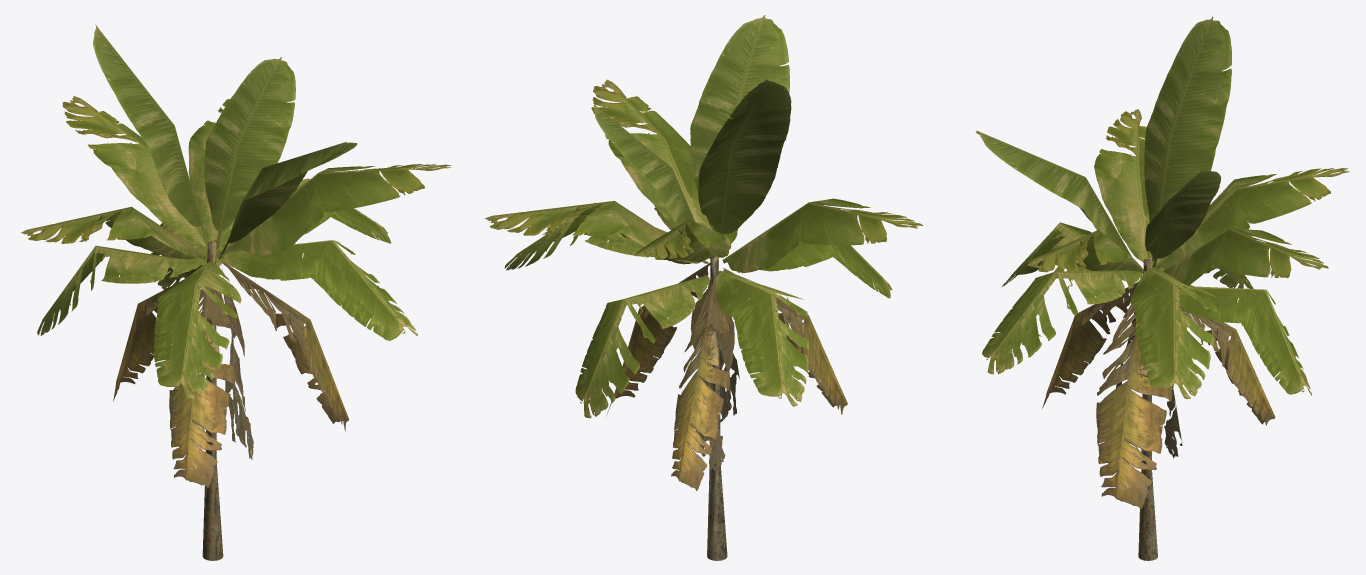
Rendered from BananaTree_LOD4.fbx.
The picture shows the model from 3 angles, left to right: view 1: azimuth 30°, elevation 25°; view 2: azimuth 150°, elevation 25°; view 3: azimuth 270°, elevation 25°; orthographic projection. The views are drawn at different scales.
Visible parts, largest first — view 1: banana_plant_1, banana_plant_0; view 2: banana_plant_1, banana_plant_0; view 3: banana_plant_1, banana_plant_0.
Boxes of the visible parts, x1,y1,x2,y2 form: banana_plant_1: (21, 24, 450, 487); banana_plant_0: (202, 240, 223, 560); banana_plant_1: (485, 15, 923, 490); banana_plant_0: (707, 256, 727, 560); banana_plant_1: (975, 16, 1349, 509); banana_plant_0: (1138, 257, 1157, 560).
Bounding box in the file's own units: 264 × 337 × 237.
Materials: 1 (1 with a texture image).
